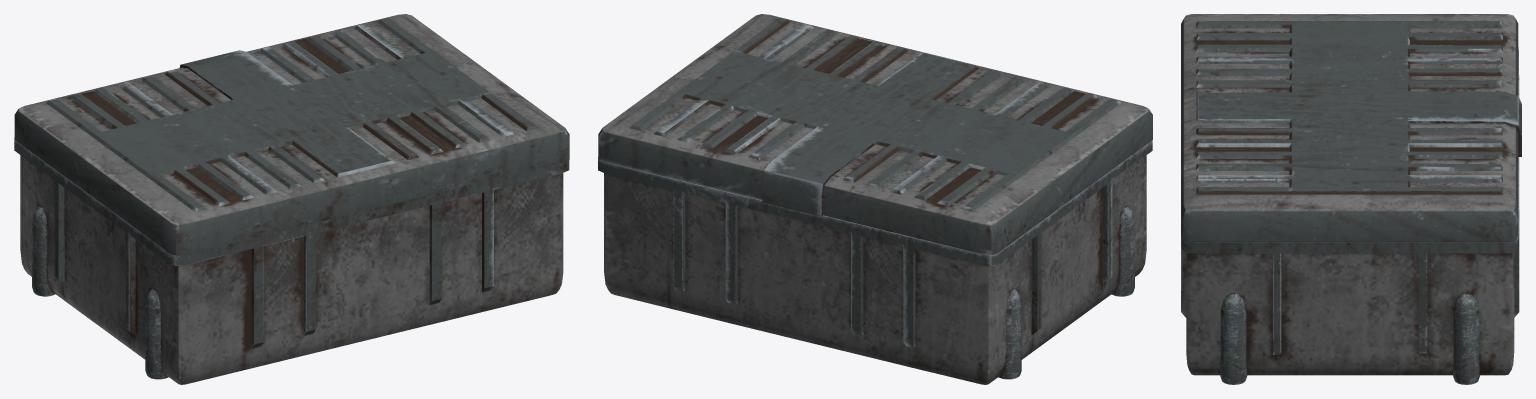
Rendered from Artifact Box.fbx.
3 views of the same model, side by side, from view 1: azimuth 30°, elevation 25°; view 2: azimuth 150°, elevation 25°; view 3: azimuth 270°, elevation 25° (orthographic). The views are drawn at different scales.
Parts seen in each view (by area): view 1: Caixa Tampa, Caixa Base, Caixa detalhes, Caixa detalhes 2; view 2: Caixa Tampa, Caixa Base, Caixa detalhes, Caixa detalhes 2; view 3: Caixa Tampa, Caixa Base, Caixa detalhes, Caixa detalhes 2.
Boxes of the visible parts, box(x1,y1,x2,y2) form: Caixa Tampa: box(14, 14, 569, 255); Caixa Base: box(20, 155, 563, 384); Caixa detalhes: box(14, 137, 569, 348); Caixa detalhes 2: box(32, 205, 168, 379); Caixa Tampa: box(598, 14, 1152, 255); Caixa Base: box(604, 155, 1146, 384); Caixa detalhes: box(598, 140, 1152, 348); Caixa detalhes 2: box(998, 205, 1134, 379); Caixa Tampa: box(1181, 14, 1521, 241); Caixa Base: box(1186, 252, 1514, 375); Caixa detalhes: box(1181, 47, 1519, 354); Caixa detalhes 2: box(1220, 292, 1480, 384).
Bounding box in the file's own units: 91.38 × 37.64 × 65.12.
